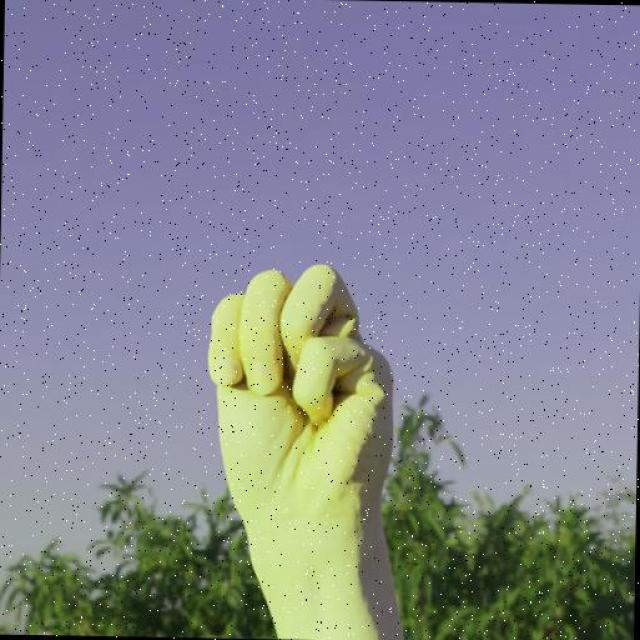M: (204, 260, 399, 525)
